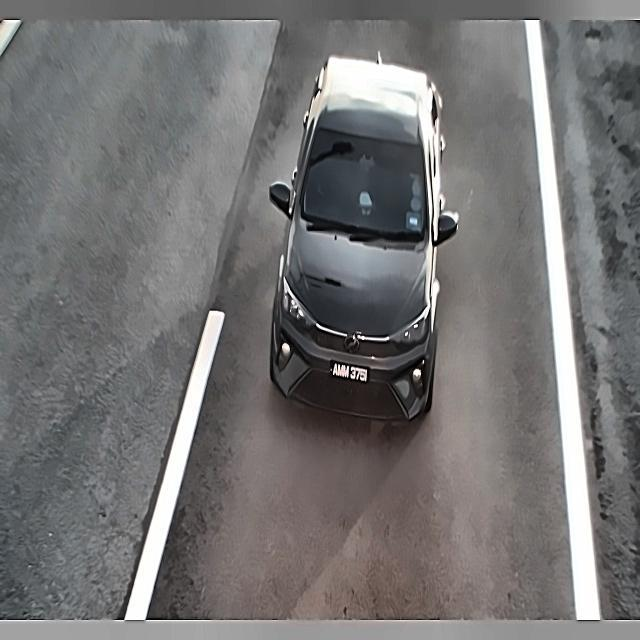car: (325, 354, 378, 392)
